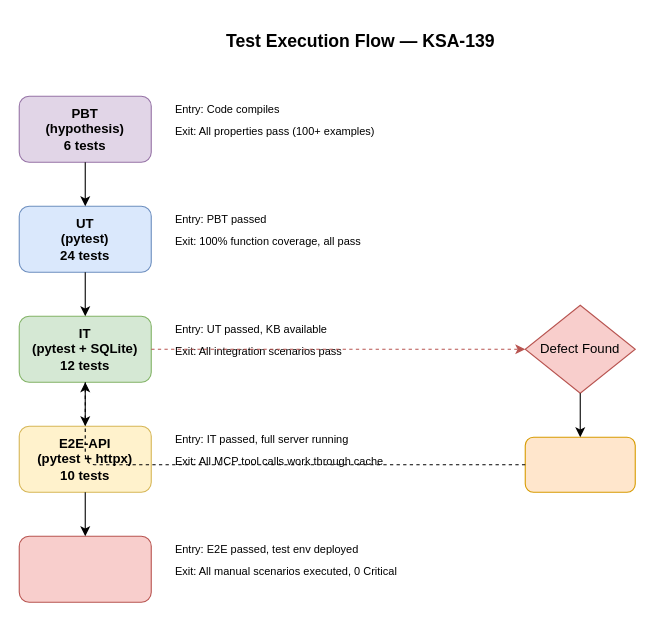
Some shapes in this 655 by 622 pixel diagram are drawn without their labels. Each missing label, with the centre of its shape:
"Fix & Retest" goes at pixel 579 464.
"SIT (Manual) 5 tests" goes at pixel 84 568.
